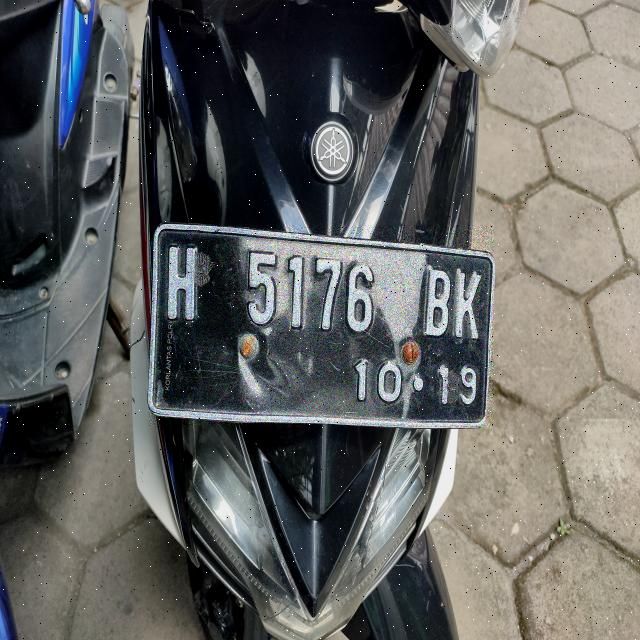plate: (149, 225, 493, 426)
